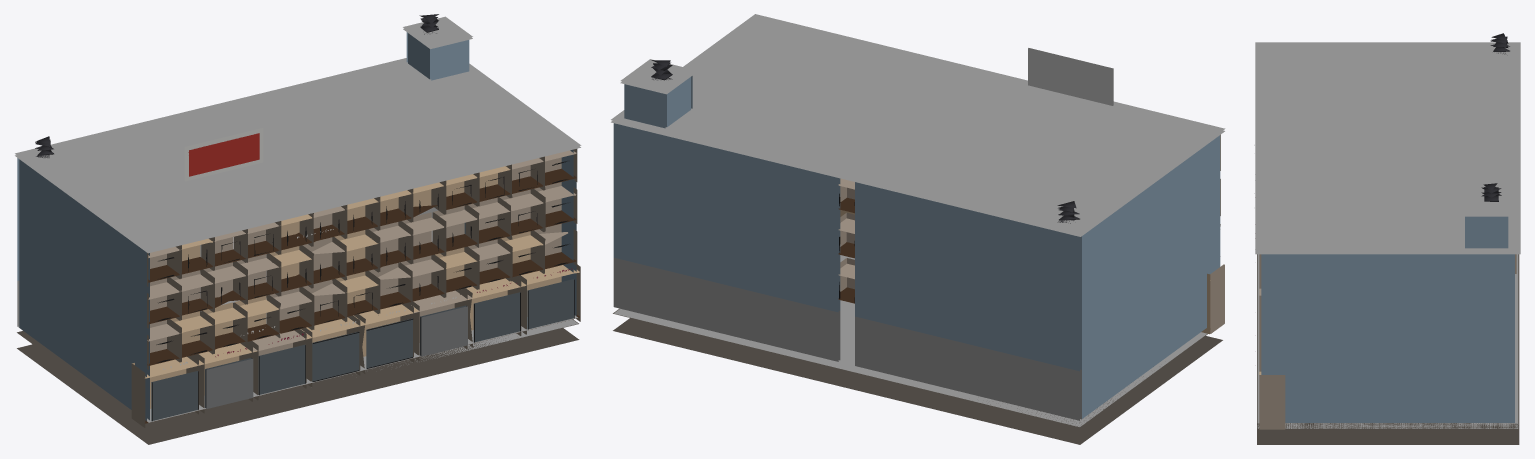
The model's file is commercial_34x18_4_far.glb.
3 views of the same model, side by side, from view 1: azimuth 30°, elevation 25°; view 2: azimuth 150°, elevation 25°; view 3: azimuth 270°, elevation 25° (orthographic). The views are drawn at different scales.
Parts seen in each view (by area): view 1: commercial_34x18_4; view 2: commercial_34x18_4; view 3: commercial_34x18_4.
Part boxes in pixels (<box>): commercial_34x18_4: <box>15,14,581,444</box>; commercial_34x18_4: <box>611,14,1225,444</box>; commercial_34x18_4: <box>1254,33,1520,444</box>.
Bounding box in the file's own units: 34.5 × 19.45 × 18.37.
